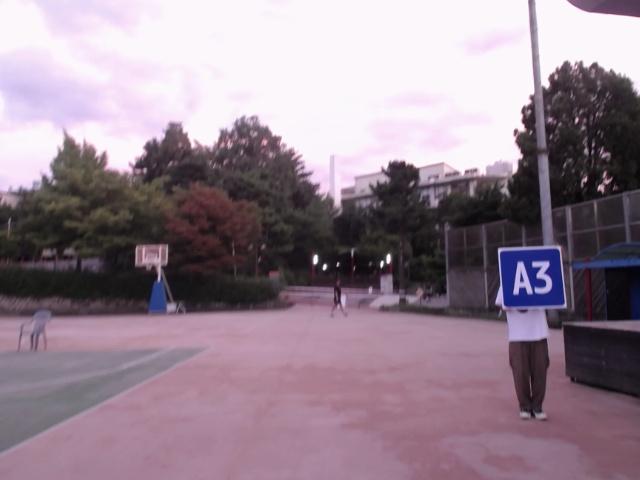delivery_a3: (498, 247, 567, 307)
